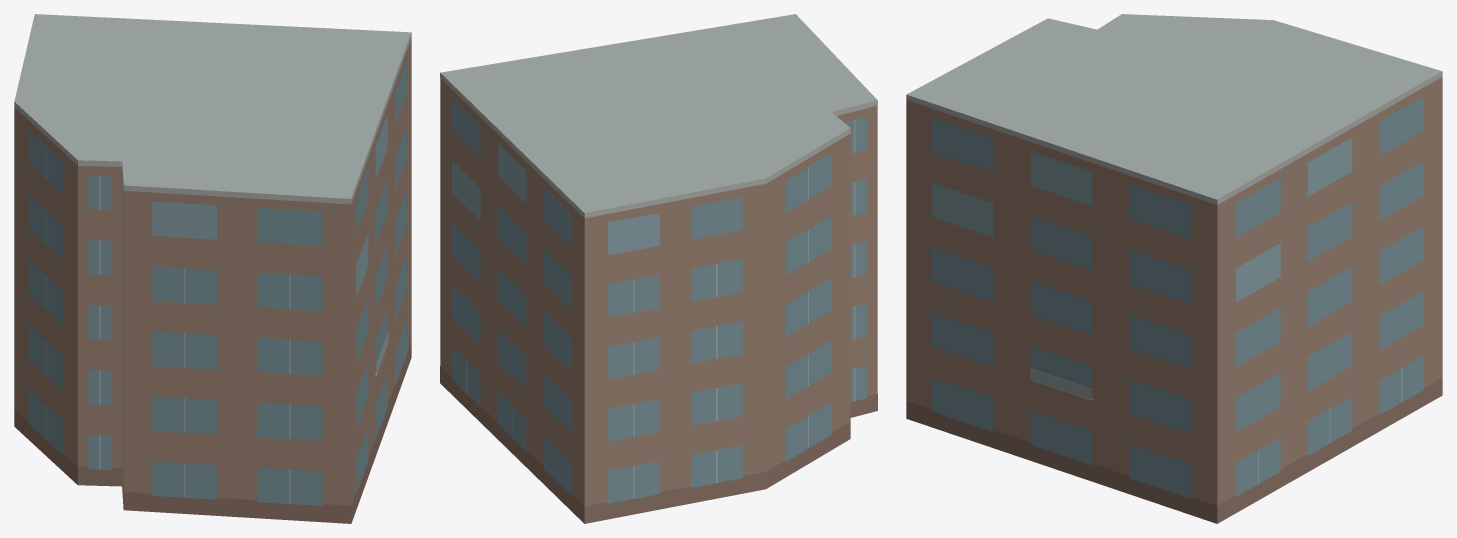
File: survey-upis-32720165.glb
3 renders of one model, left to right at view 1: azimuth 30°, elevation 25°; view 2: azimuth 150°, elevation 25°; view 3: azimuth 270°, elevation 25°, orthographic. The views are drawn at different scales.
Parts seen in each view (by area): view 1: survey-upis-32720165.tmp; view 2: survey-upis-32720165.tmp; view 3: survey-upis-32720165.tmp.
Boxes of the visible parts, box(x1,y1,x2,y2) form: survey-upis-32720165.tmp: box(14, 14, 411, 523); survey-upis-32720165.tmp: box(440, 14, 877, 523); survey-upis-32720165.tmp: box(906, 14, 1442, 523).
Bounding box in the file's own units: 17.89 × 14.55 × 21.82.
